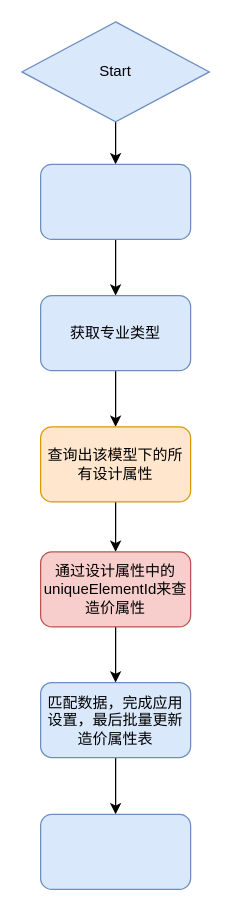
Image size: 231x911. Some labels were removed from this diagram. Each missing label, with the box of its shape:
判断锁是否存在，完成加锁操作: (39, 163, 191, 239)
释放锁，End: (39, 813, 191, 889)
